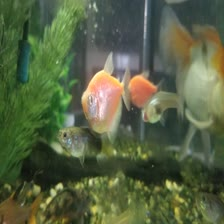Cuezo: (154, 3, 223, 164)
Guppy: (51, 124, 124, 162), (137, 89, 189, 126)
Plano: (69, 55, 129, 134), (127, 67, 168, 106)
